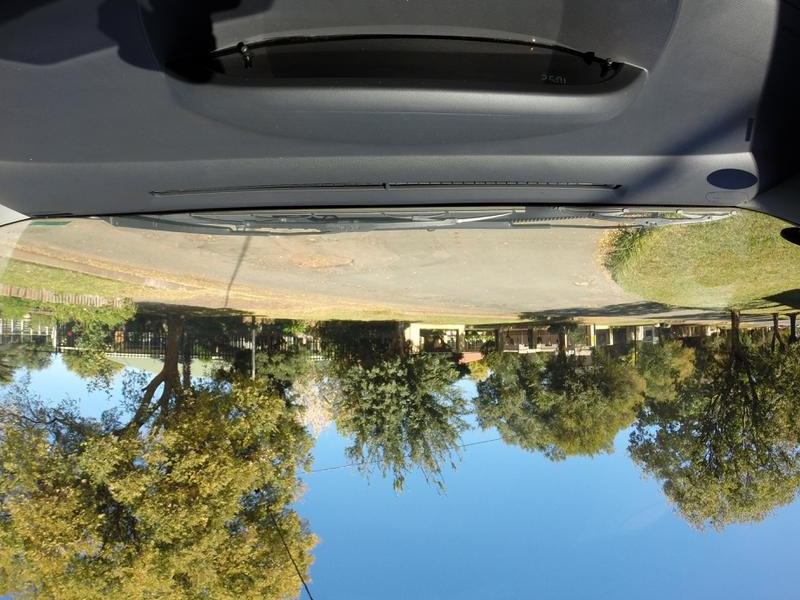pothole: (281, 250, 358, 282)
